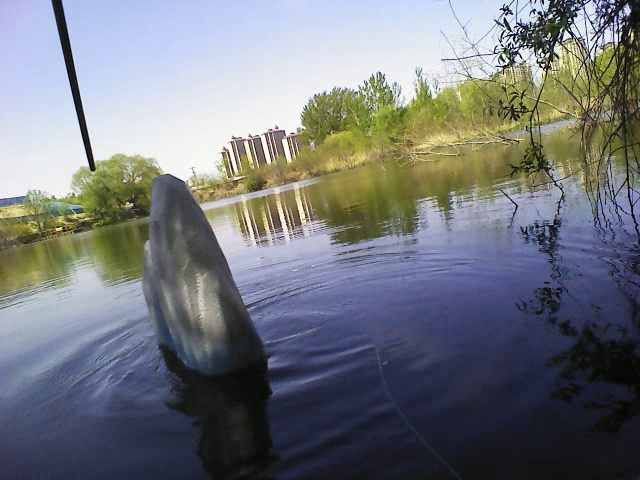iceberg: (134, 169, 274, 378)
